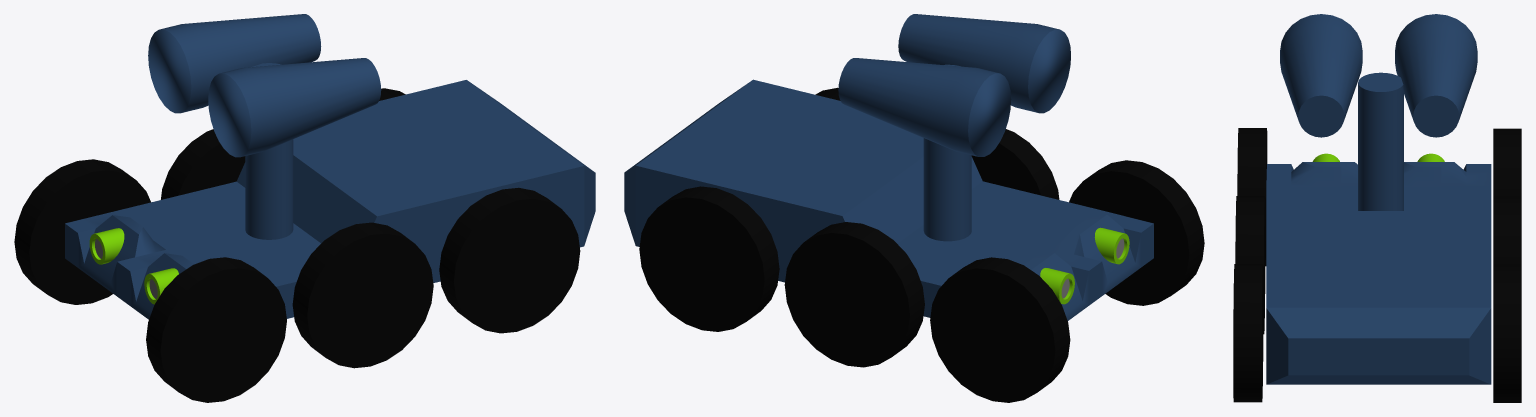
The model's file is roverFBX.fbx.
The picture shows the model from 3 angles, left to right: view 1: azimuth 30°, elevation 25°; view 2: azimuth 150°, elevation 25°; view 3: azimuth 270°, elevation 25°; orthographic projection. The views are drawn at different scales.
Visible parts, largest first — view 1: body, wheel (6), wheel (5), wheel (4), camera, camera (2), wheel (3), Mesh, wheel (2), headlights; view 2: body, wheel (3), wheel (2), wheel, camera (2), camera, wheel (5), Mesh, wheel (6), headlights; view 3: body, camera, camera (2), Mesh, wheel (4), wheel, wheel (6), wheel (5), wheel (2), wheel (3), headlights.
Part boxes in pixels (left/top/right/bottom): body: left=65, top=80, right=595, bottom=319; wheel (6): left=292, top=222, right=433, bottom=368; wheel (5): left=146, top=257, right=286, bottom=402; wheel (4): left=439, top=187, right=580, bottom=333; camera: left=208, top=58, right=381, bottom=157; camera (2): left=148, top=14, right=321, bottom=113; wheel (3): left=14, top=159, right=150, bottom=304; Mesh: left=245, top=63, right=293, bottom=239; wheel (2): left=161, top=129, right=245, bottom=199; headlights: left=89, top=228, right=178, bottom=304; body: left=624, top=79, right=1153, bottom=320; wheel (3): left=930, top=257, right=1070, bottom=402; wheel (2): left=784, top=222, right=924, bottom=367; wheel: left=639, top=186, right=779, bottom=331; camera (2): left=838, top=58, right=1011, bottom=156; camera: left=898, top=14, right=1070, bottom=113; wheel (5): left=1069, top=160, right=1204, bottom=305; Mesh: left=923, top=64, right=971, bottom=241; wheel (6): left=971, top=129, right=1059, bottom=199; headlights: left=1040, top=227, right=1129, bottom=304; body: left=1266, top=162, right=1491, bottom=384; camera: left=1280, top=14, right=1362, bottom=137; camera (2): left=1395, top=14, right=1477, bottom=137; Mesh: left=1358, top=72, right=1403, bottom=210; wheel (4): left=1233, top=264, right=1263, bottom=402; wheel: left=1493, top=264, right=1521, bottom=402; wheel (6): left=1235, top=196, right=1265, bottom=334; wheel (5): left=1237, top=128, right=1267, bottom=266; wheel (2): left=1493, top=196, right=1521, bottom=264; wheel (3): left=1493, top=128, right=1521, bottom=196; headlights: left=1312, top=153, right=1444, bottom=161.
Bounding box in the file's own units: 111 × 64.6 × 62.77.
